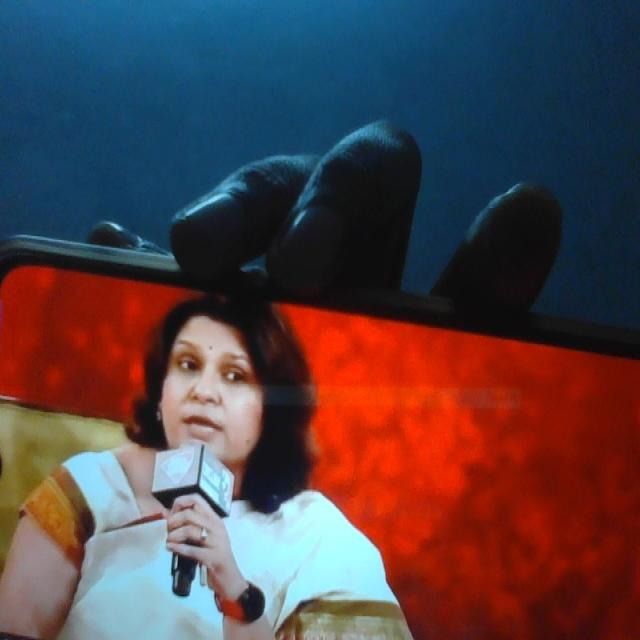fake: (159, 268, 274, 485)
